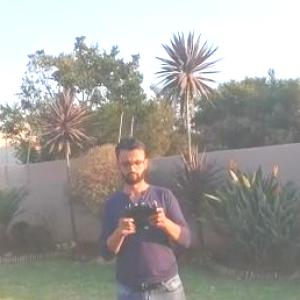follow: (94, 125, 200, 299)
